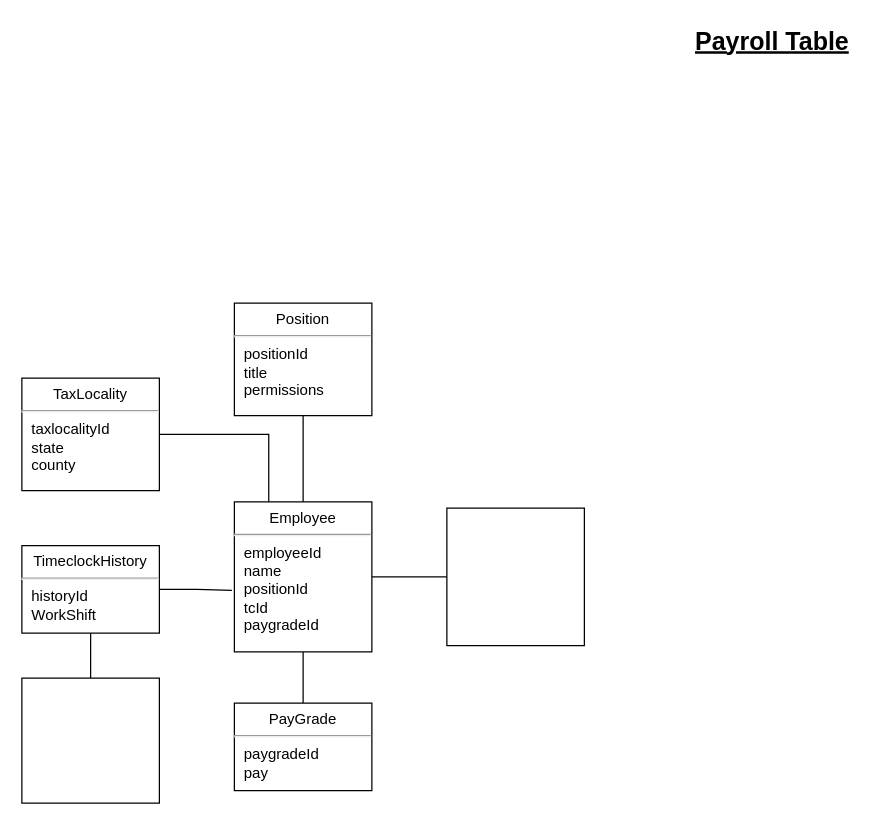
The diagram is 881 pixels wide and 825 high, and some of its shapes have lost their labels. The shapes that lost their labels are listed below. From the top down, each one's centre as x and y in pixels, then its label:
[515,576]: DispersalInfo diId isDirectDeposit isCheck requestPaystub ...
[90,740]: WorkShift workshiftID date timeStart timeEnd
